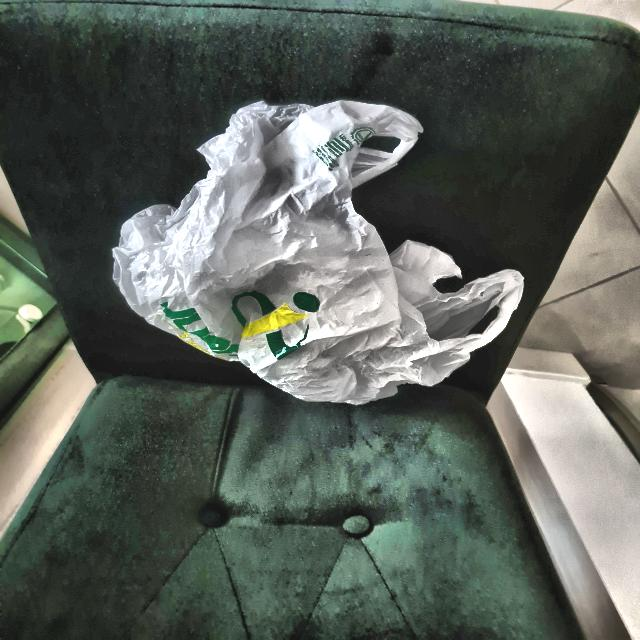plastic bag: (57, 93, 534, 416)
